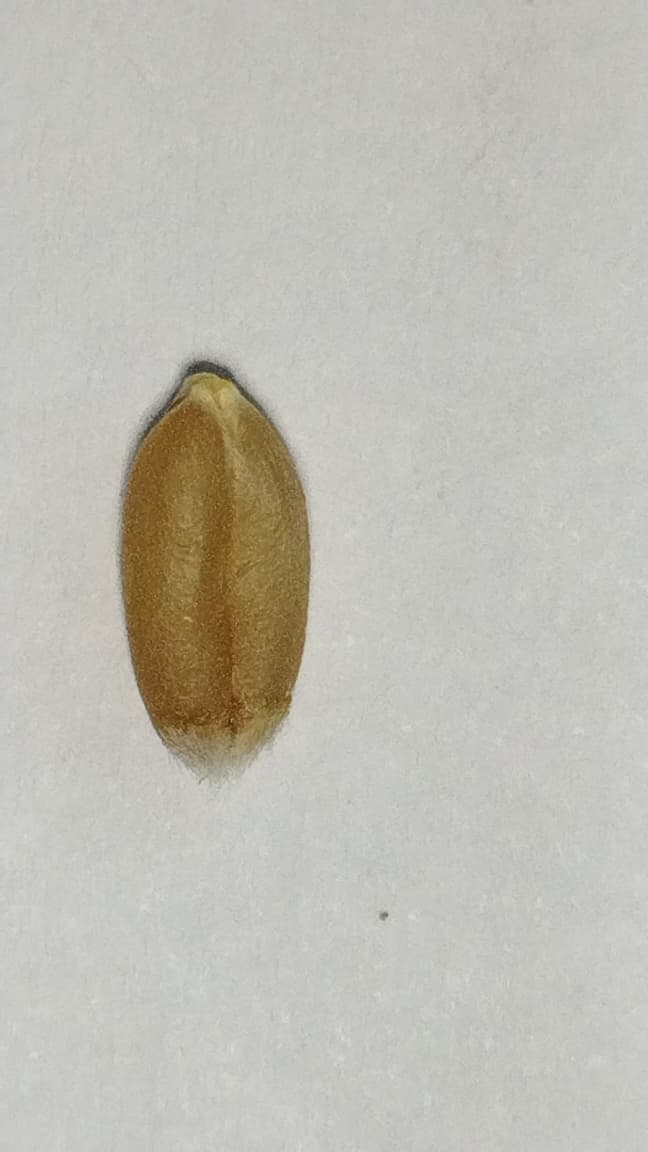healthy: (121, 366, 312, 777)
